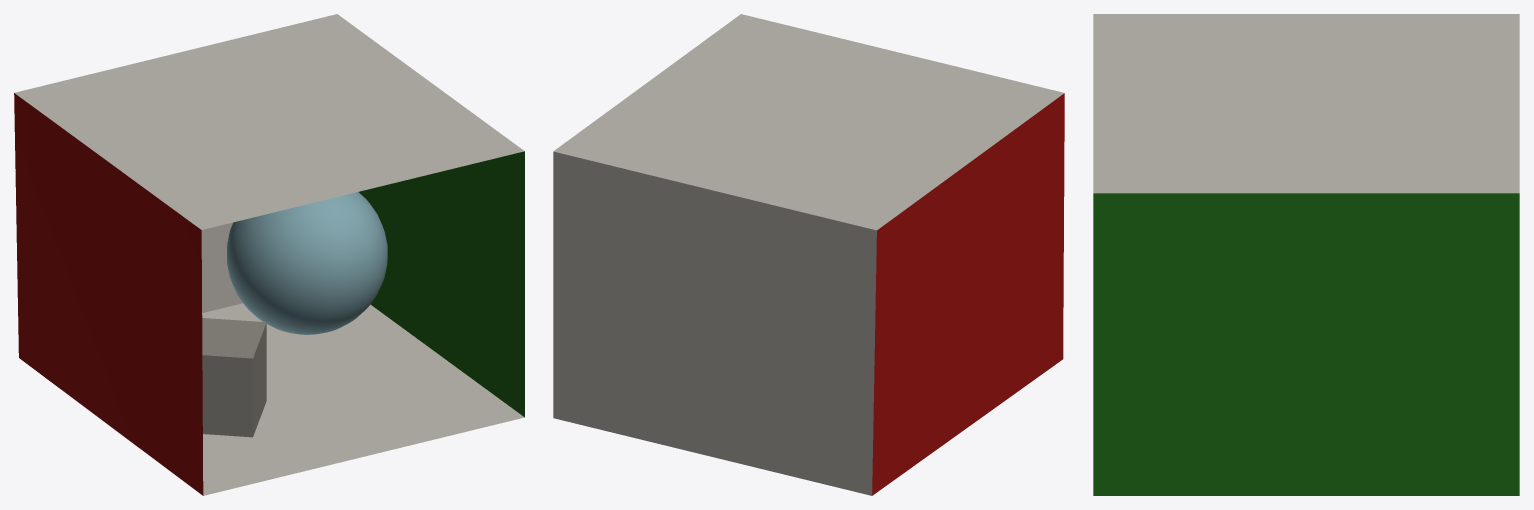
The model's file is CornellBox-Glossy.obj.
3 views of the same model, side by side, from view 1: azimuth 30°, elevation 25°; view 2: azimuth 150°, elevation 25°; view 3: azimuth 270°, elevation 25° (orthographic). The views are drawn at different scales.
Visible parts, largest first — view 1: ceiling, leftWall, floor, rightWall, sphere, shortBox, backWall; view 2: backWall, ceiling, leftWall; view 3: rightWall, ceiling.
Boxes of the visible parts, x1,y1,x2,y2 form: ceiling: (14,14,524,229); leftWall: (14,93,203,495); floor: (202,303,524,495); rightWall: (359,151,524,417); sphere: (227,192,387,334); shortBox: (202,318,266,437); backWall: (201,222,242,312); backWall: (553,151,876,495); ceiling: (553,14,1064,230); leftWall: (872,93,1064,495); rightWall: (1093,193,1519,495); ceiling: (1093,14,1519,193).
Size of the model in its own units: 2.02 by 1.59 by 2.03.
